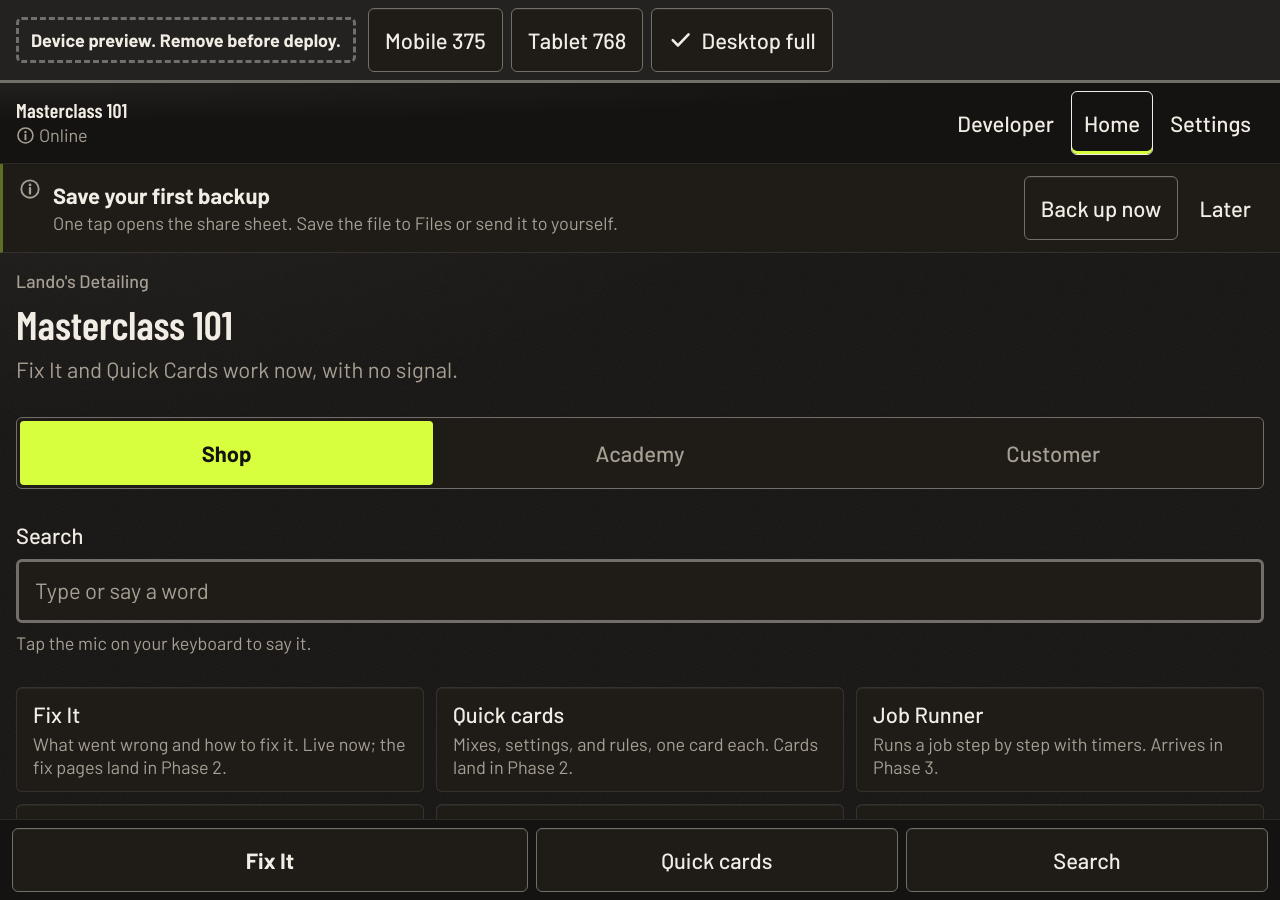
Test: Customer View in the shell (3.4, D10) › the mode switch on Home turns it on
Expected: the link "Fix It" is shown, left=12, top=828, right=528, bottom=892
What coordinates should you click on to do the following:
click the radio button labelled "Customer"
I would click on:
 (1053, 453)
Its box is left=1006, top=440, right=1100, bottom=466.
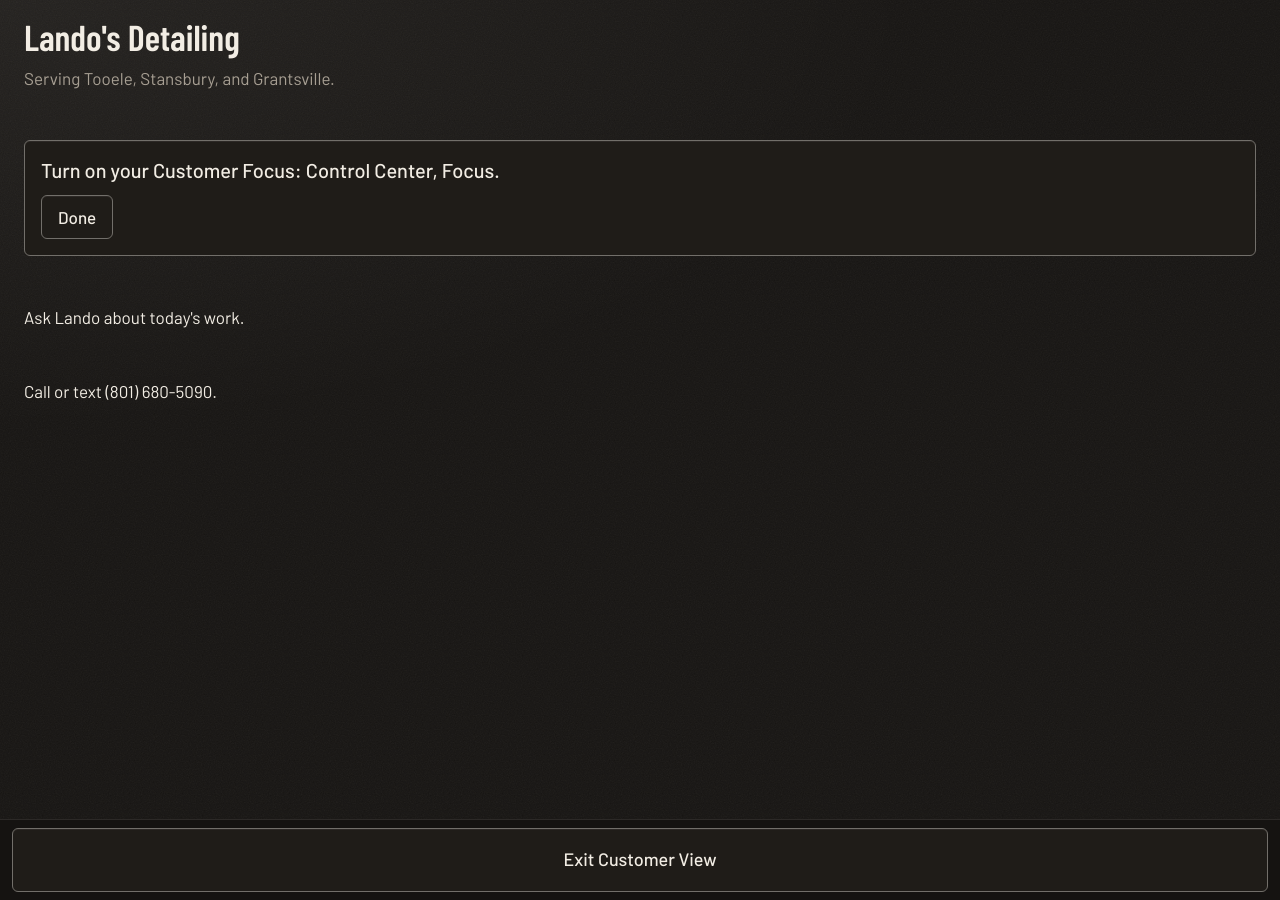
Now the text "Fix It" is gone
